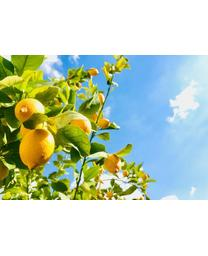lemon: (18, 128, 56, 168), (15, 98, 47, 126), (104, 154, 124, 175)
